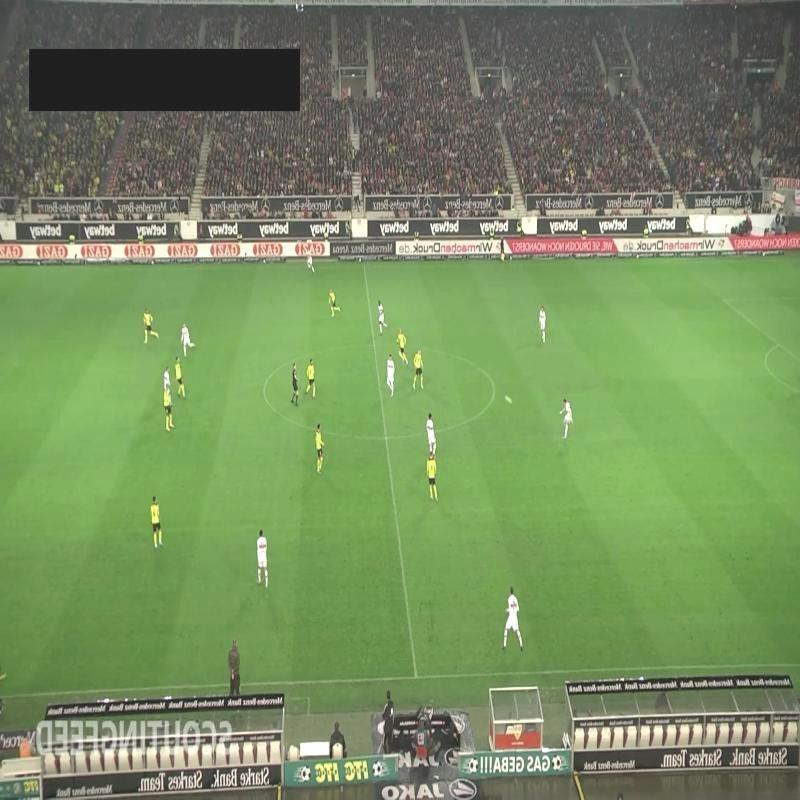10: (771, 340, 785, 353)
13: (358, 259, 372, 273)
14: (368, 338, 382, 352)
15: (379, 431, 393, 446)
16: (410, 670, 424, 685)
9: (716, 293, 730, 307)
c: (486, 378, 502, 392), (257, 384, 271, 398)
